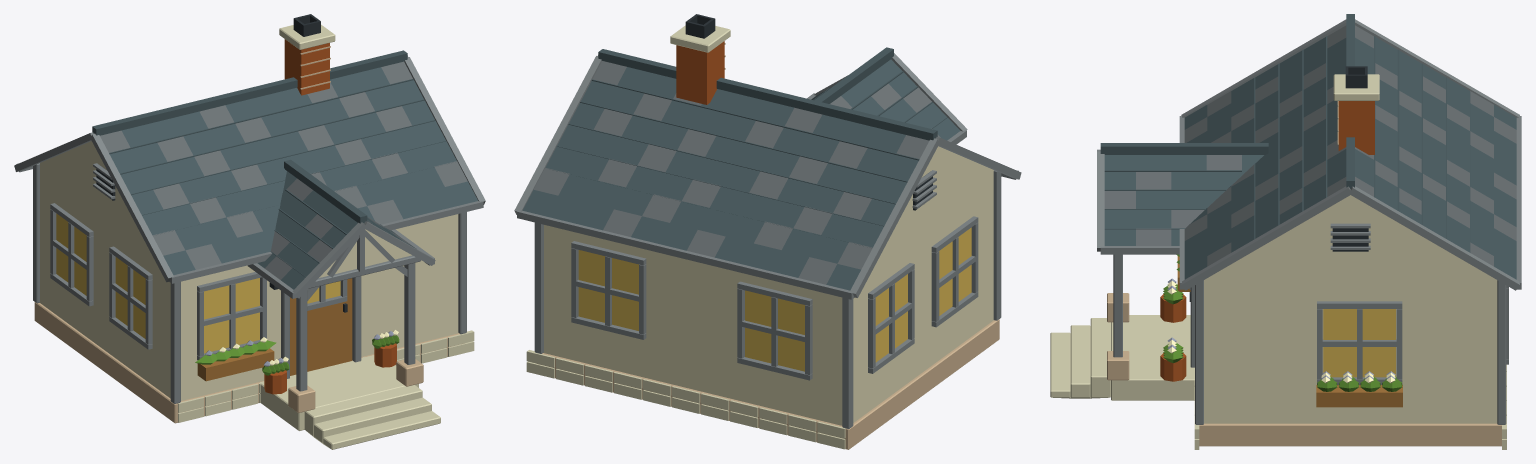
The model's file is House_A_Lv1_LOD0.fbx.
3 renders of one model, left to right at view 1: azimuth 30°, elevation 25°; view 2: azimuth 150°, elevation 25°; view 3: azimuth 270°, elevation 25°, orthographic. The views are drawn at different scales.
Parts seen in each view (by area): view 1: House_A_Lv1_High; view 2: House_A_Lv1_High; view 3: House_A_Lv1_High.
Boxes of the visible parts, box(x1,y1,x2,y2) form: House_A_Lv1_High: box(14, 14, 485, 449); House_A_Lv1_High: box(514, 14, 1021, 449); House_A_Lv1_High: box(1050, 14, 1521, 449).
Size of the model in its own units: 10.09 by 9.05 by 11.69.
